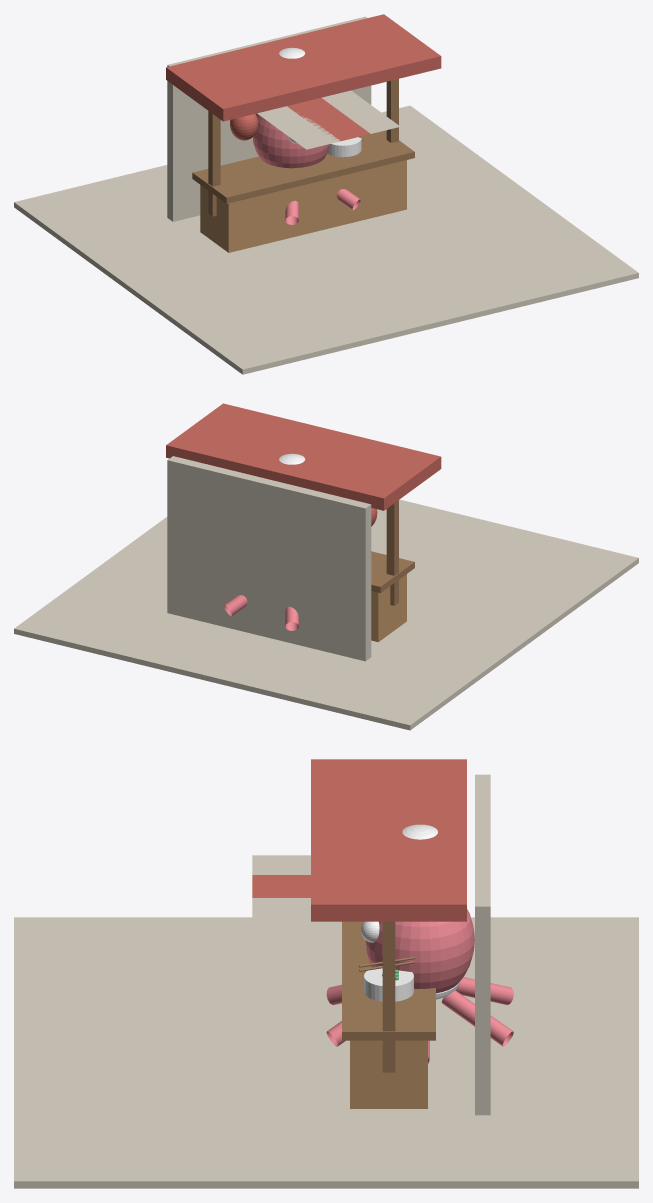
Rendered from octopus-chef.glb.
The picture shows the model from 3 angles, top to bottom: view 1: azimuth 30°, elevation 25°; view 2: azimuth 150°, elevation 25°; view 3: azimuth 270°, elevation 25°; orthographic projection. The views are drawn at different scales.
Parts seen in each view (by area): view 1: Floor, Roof, Counter, BackWall, CounterTop, Body, Noren1, Noren0, Noren2, Post-1.8, Post1.8, Lantern (+1 smaller); view 2: Floor, BackWall, Roof, Counter, Post-1.8, CounterTop; view 3: Floor, Roof, CounterTop, BackWall, Body, Counter, Post1.8, Noren1, Noren0, Noren2, Tent1, Bowl (+1 smaller).
Part boxes in pixels (x1,y1,x2,y2): Floor: [14, 105, 638, 374]; Roof: [166, 14, 441, 121]; Counter: [200, 160, 406, 252]; BackWall: [167, 16, 371, 221]; CounterTop: [192, 130, 414, 203]; Body: [252, 113, 329, 168]; Noren1: [287, 97, 370, 141]; Noren0: [257, 106, 340, 149]; Noren2: [322, 90, 400, 133]; Post-1.8: [208, 111, 220, 216]; Post1.8: [386, 79, 398, 142]; Lantern: [230, 114, 258, 140]; Floor: [14, 499, 638, 730]; BackWall: [167, 456, 371, 661]; Roof: [166, 403, 441, 510]; Counter: [371, 574, 406, 642]; Post-1.8: [386, 500, 398, 605]; CounterTop: [371, 551, 414, 592]; Floor: [14, 917, 638, 1188]; Roof: [311, 759, 466, 921]; CounterTop: [342, 921, 435, 1040]; BackWall: [475, 774, 490, 1115]; Body: [365, 909, 474, 993]; Counter: [350, 1040, 427, 1108]; Post1.8: [382, 921, 395, 1072]; Noren1: [252, 875, 310, 897]; Noren0: [252, 855, 310, 874]; Noren2: [252, 898, 310, 917]; Tent1: [441, 990, 513, 1046]; Bowl: [364, 966, 413, 1001].
Size of the model in its own units: 8 by 3.21 by 8.
